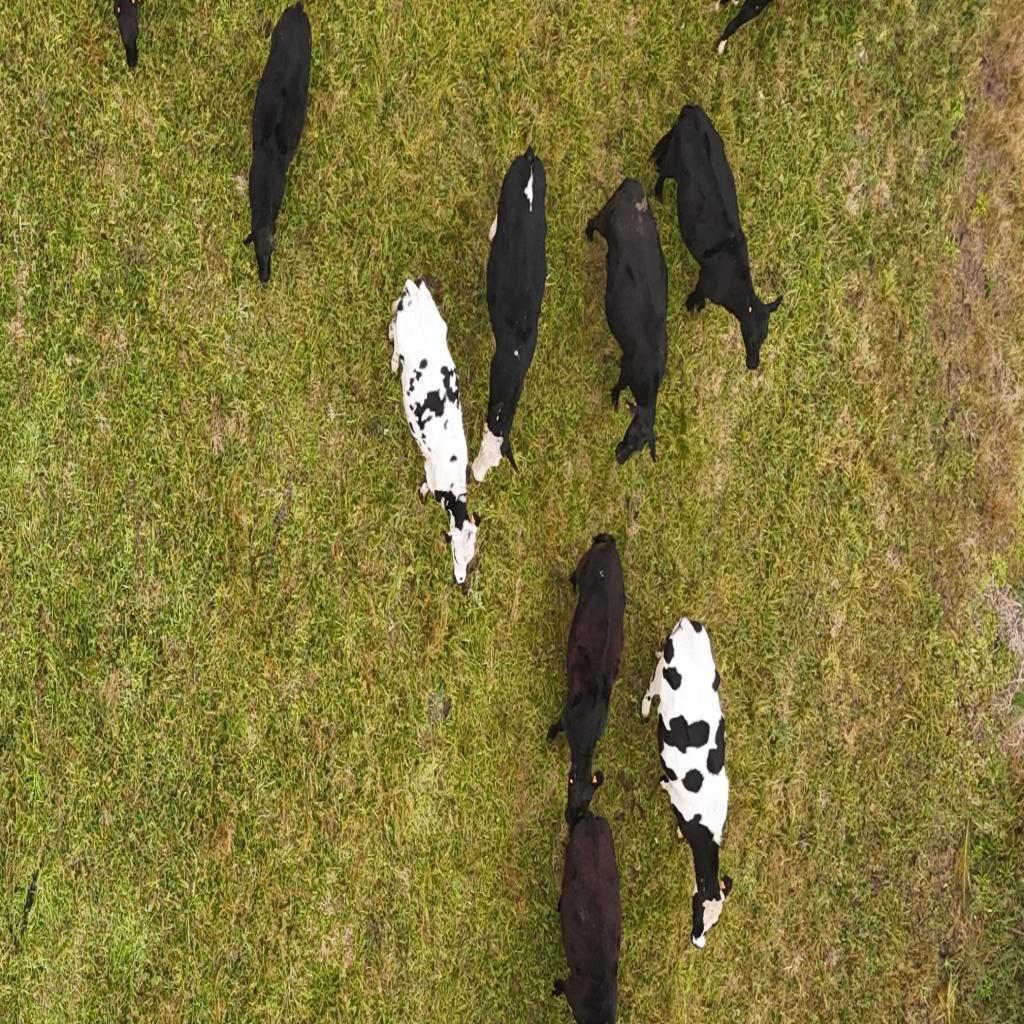cow: (651, 103, 783, 373), (642, 611, 737, 949), (385, 273, 482, 586), (583, 173, 668, 467), (480, 144, 548, 482), (546, 528, 626, 815), (241, 1, 312, 289), (549, 800, 622, 1020)
